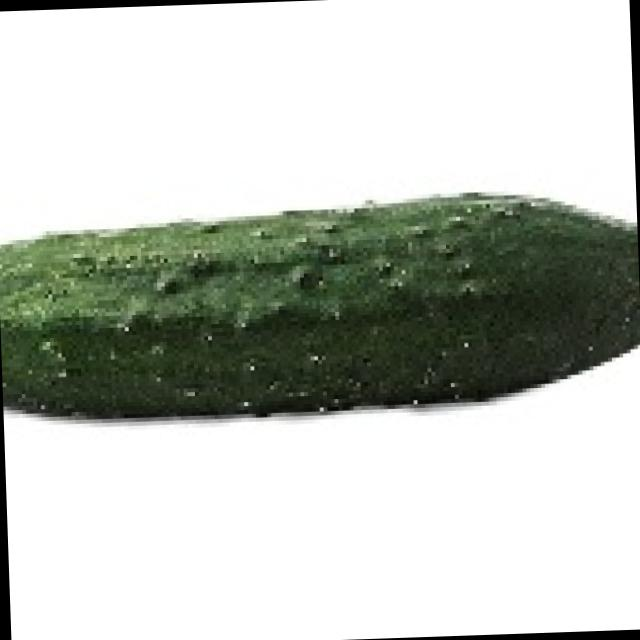cucumber: (0, 182, 640, 425)
